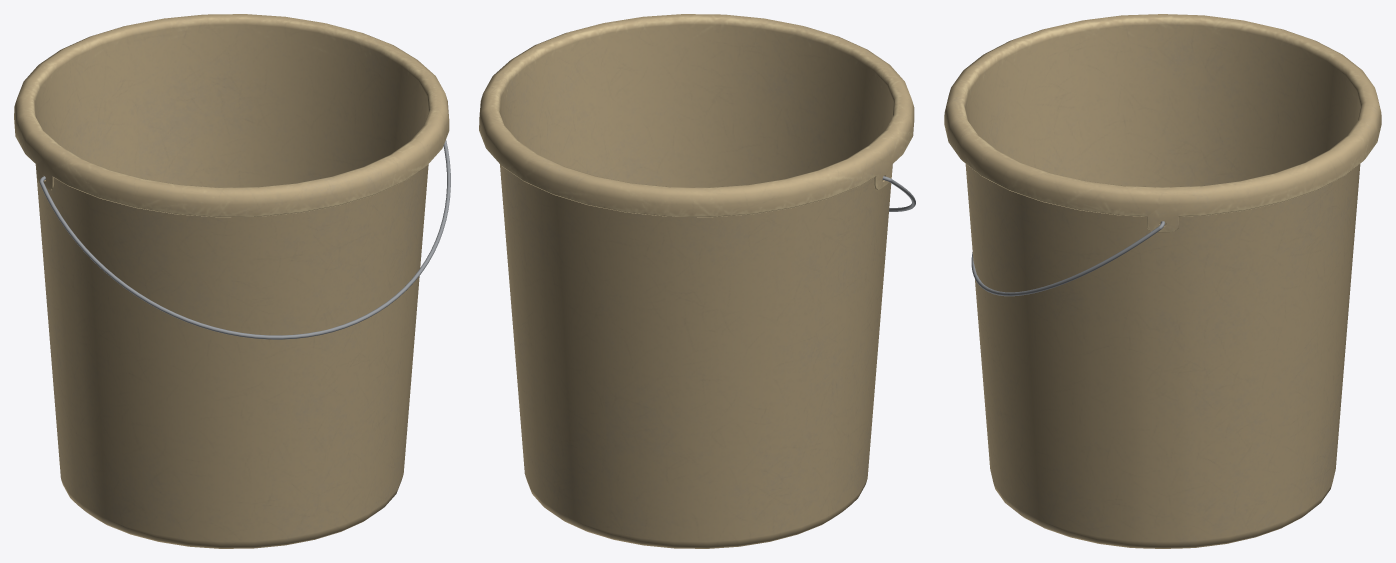
File: Bucket.fbx
3 renders of one model, left to right at view 1: azimuth 30°, elevation 25°; view 2: azimuth 150°, elevation 25°; view 3: azimuth 270°, elevation 25°, orthographic.
Parts seen in each view (by area): view 1: Object001; view 2: Object001; view 3: Object001.
Boxes of the visible parts, x1,y1,x2,y2 form: Object001: [14, 14, 450, 548]; Object001: [479, 14, 915, 548]; Object001: [944, 14, 1381, 548].
Bounding box in the file's own units: 55.14 × 53.88 × 51.38.
